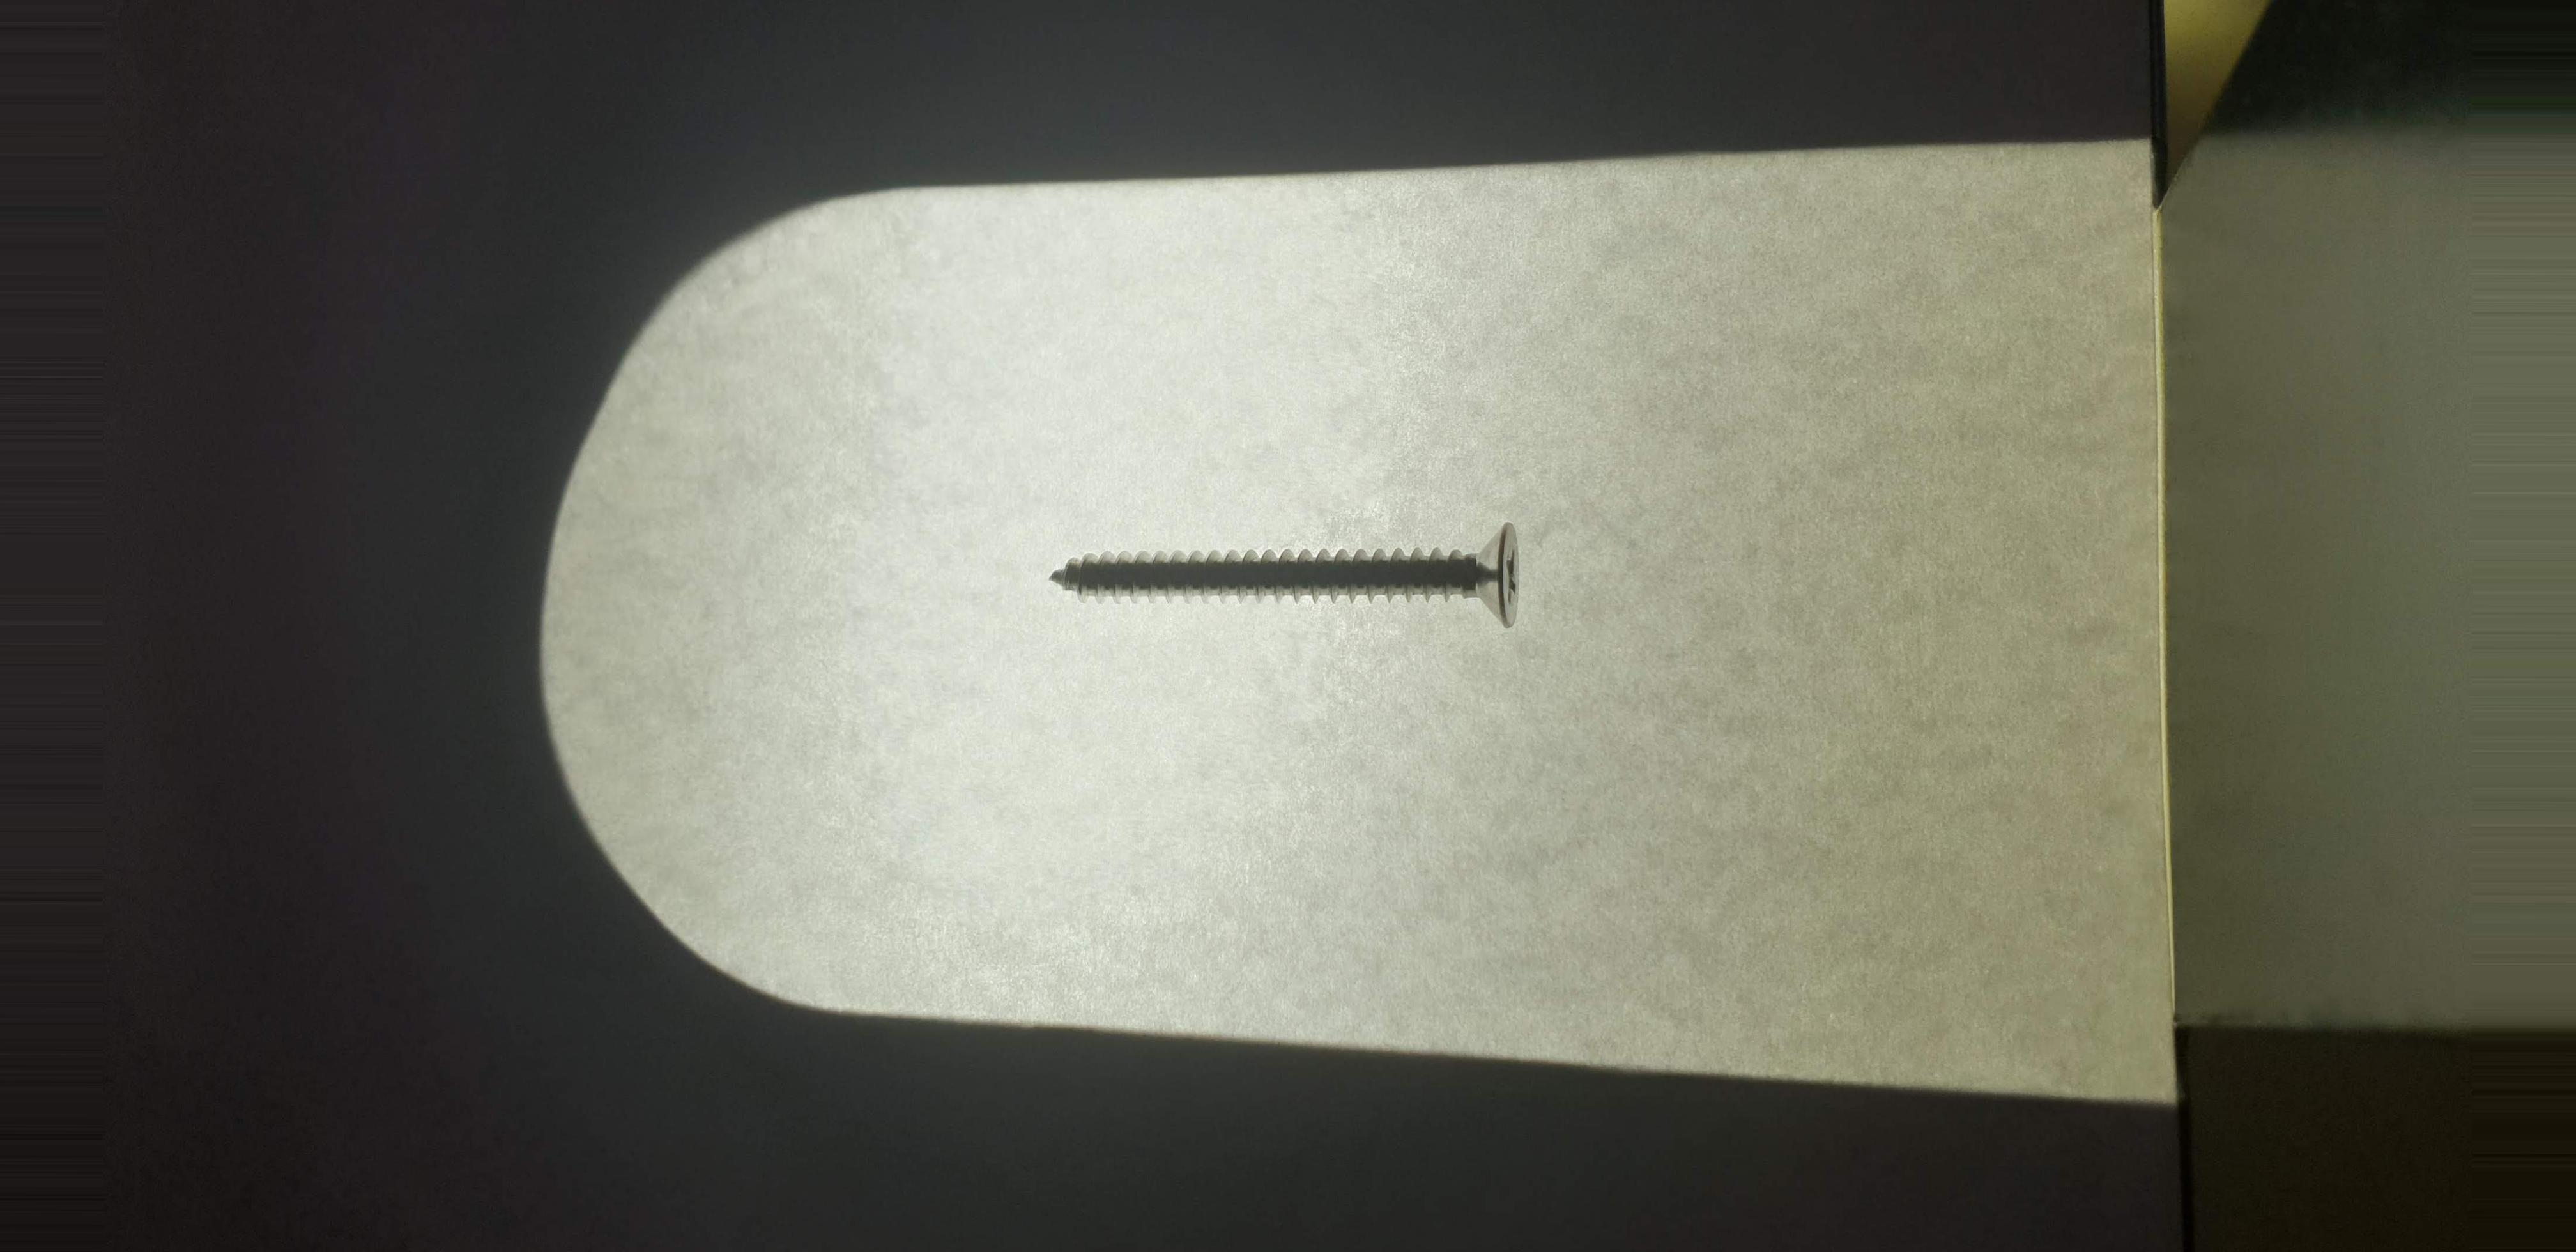S001: (1028, 506, 1546, 642)
